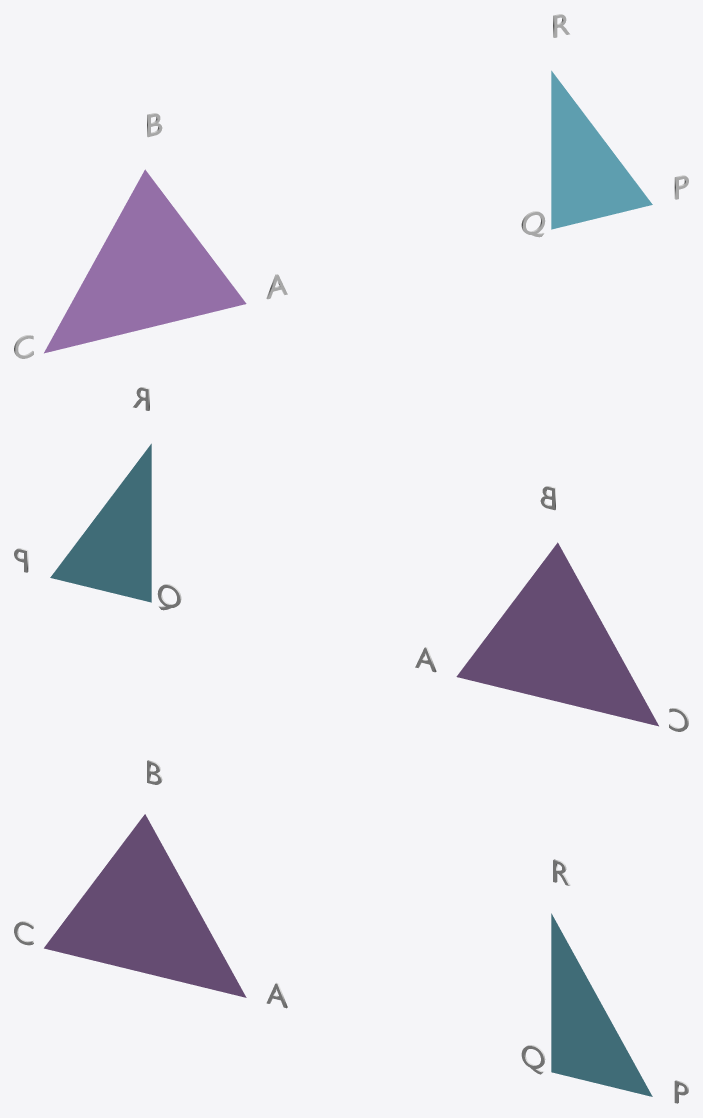
Rendered from rhs_triangle_model.glb.
The picture shows the model from 3 angles, top to bottom: view 1: azimuth 30°, elevation 25°; view 2: azimuth 150°, elevation 25°; view 3: azimuth 330°, elevation 25°; orthographic projection.
Parts seen in each view (by area): view 1: ABC, PQR; view 2: ABC, PQR; view 3: ABC, PQR.
Part boxes in pixels (bbox=[...]): ABC: bbox=[44, 169, 246, 353]; PQR: bbox=[551, 70, 652, 229]; ABC: bbox=[456, 542, 658, 726]; PQR: bbox=[50, 443, 151, 602]; ABC: bbox=[44, 814, 246, 997]; PQR: bbox=[551, 913, 652, 1096].
Bounding box in the file's own units: 6.64 × 2.05 × 0.02.
